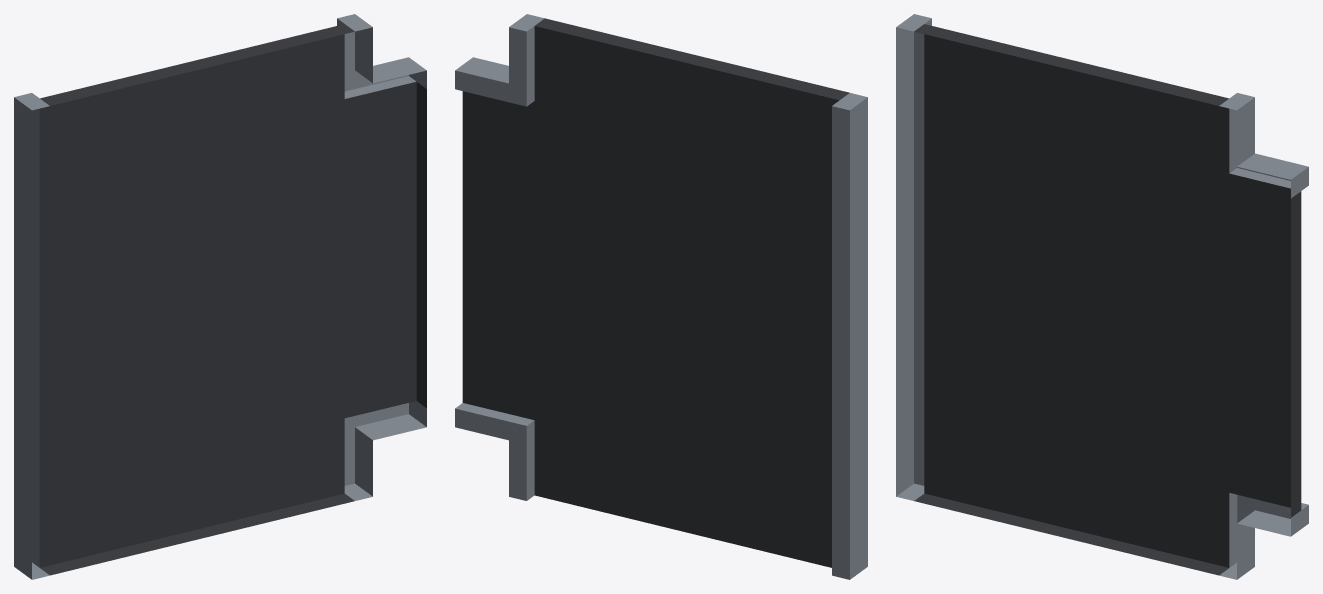
The model's file is SM_RoadSmall_IntersectionT.FBX.
3 renders of one model, left to right at view 1: azimuth 30°, elevation 25°; view 2: azimuth 150°, elevation 25°; view 3: azimuth 330°, elevation 25°, orthographic.
Visible parts, largest first — view 1: SM_RoadSmall_IntersectionT; view 2: SM_RoadSmall_IntersectionT; view 3: SM_RoadSmall_IntersectionT.
Boxes of the visible parts, x1=… form: SM_RoadSmall_IntersectionT: x1=14, y1=14, x2=426, y2=579; SM_RoadSmall_IntersectionT: x1=455, y1=14, x2=867, y2=579; SM_RoadSmall_IntersectionT: x1=896, y1=14, x2=1308, y2=579.
Bounding box in the file's own units: 44 × 3.5 × 50.01.
